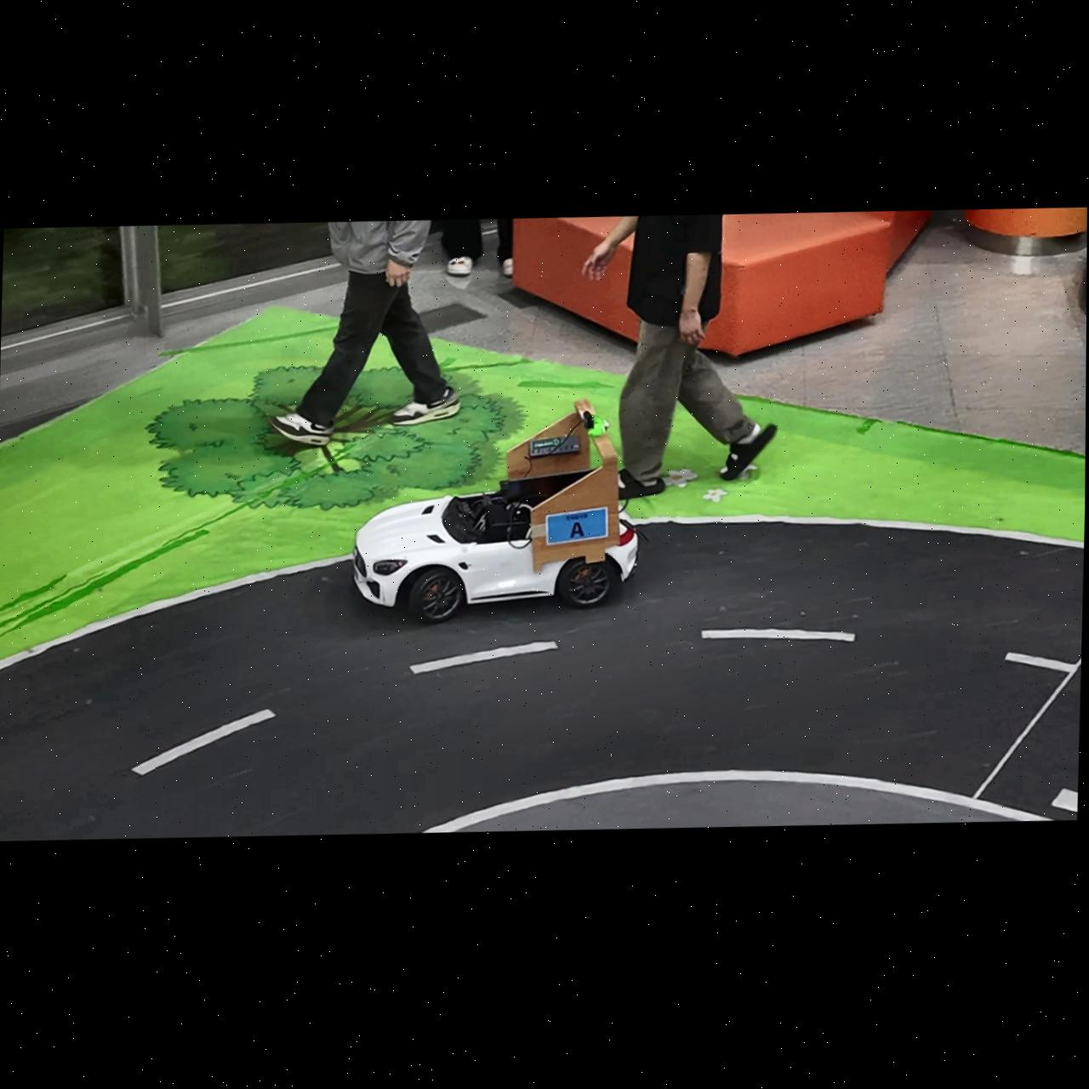broken_line: (132, 709, 275, 774), (410, 641, 557, 673), (701, 628, 855, 641), (1006, 652, 1076, 672)
crosswalk: (1053, 758, 1078, 813)
